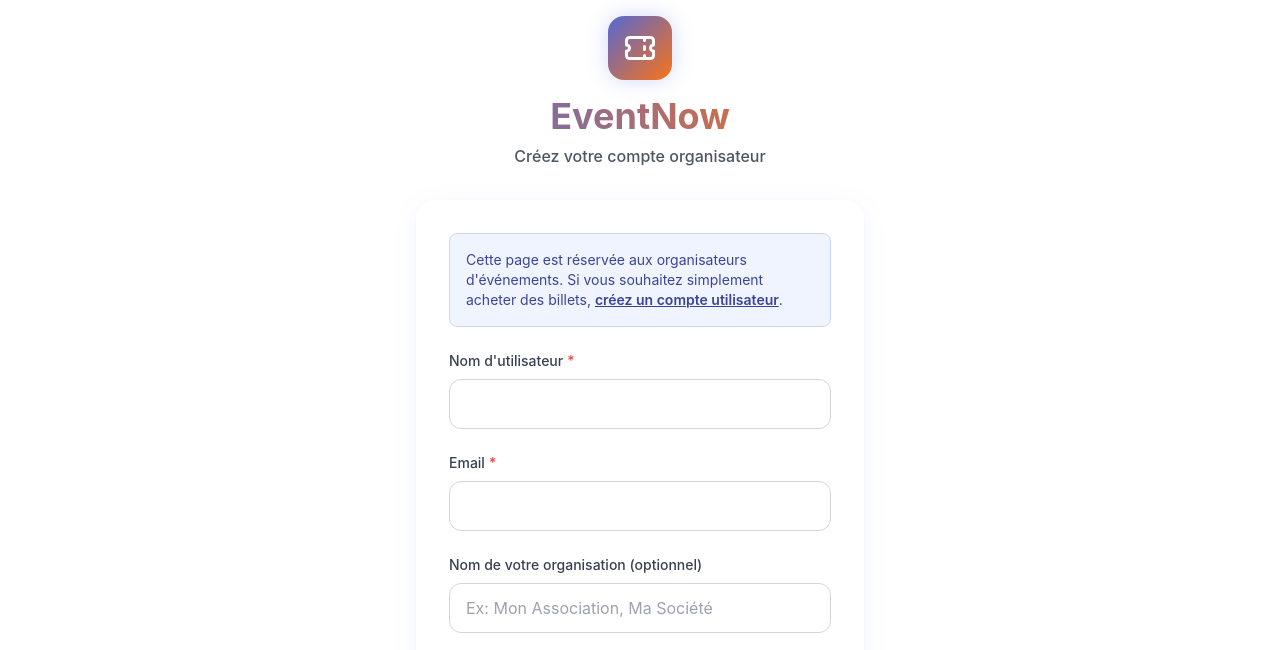
Test: RegisterOrganizerPage - client-side validation › rejects a short password
Type "alice" into the field labelled "Nom d'utilisateur*" at (640, 404), box [449,379,831,429]
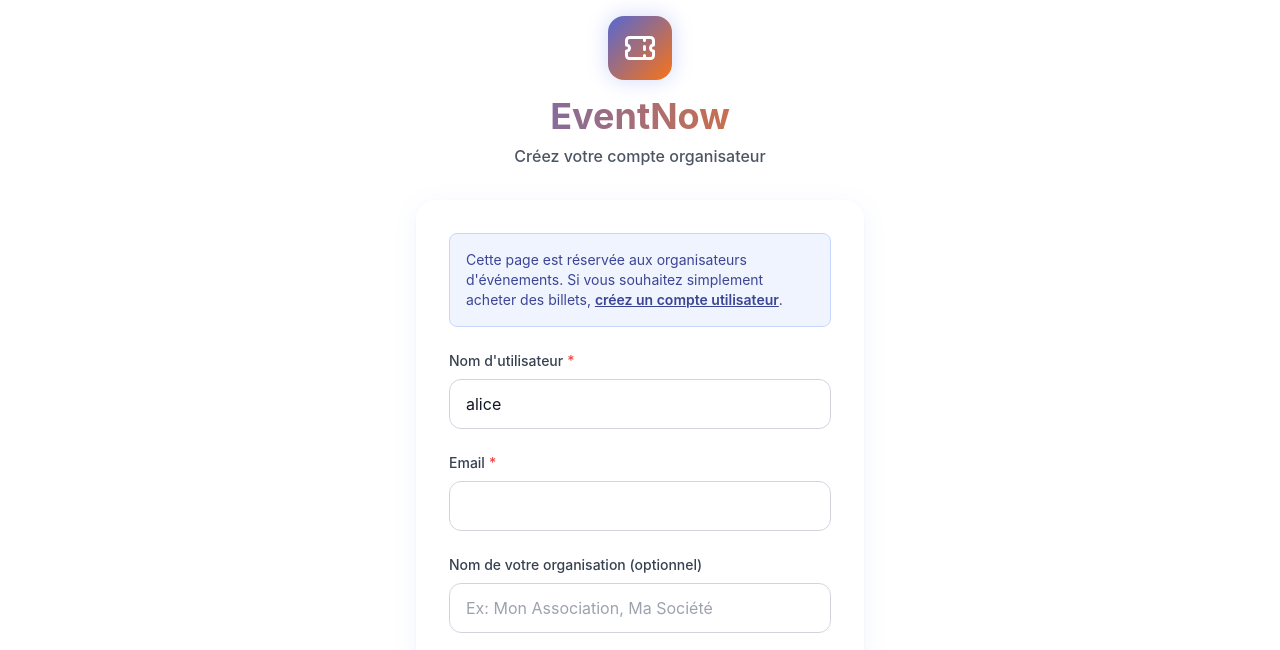
Type "alice@example.com" into the field labelled "Email*" at (640, 506), box [449,481,831,531]
(page scrolled)
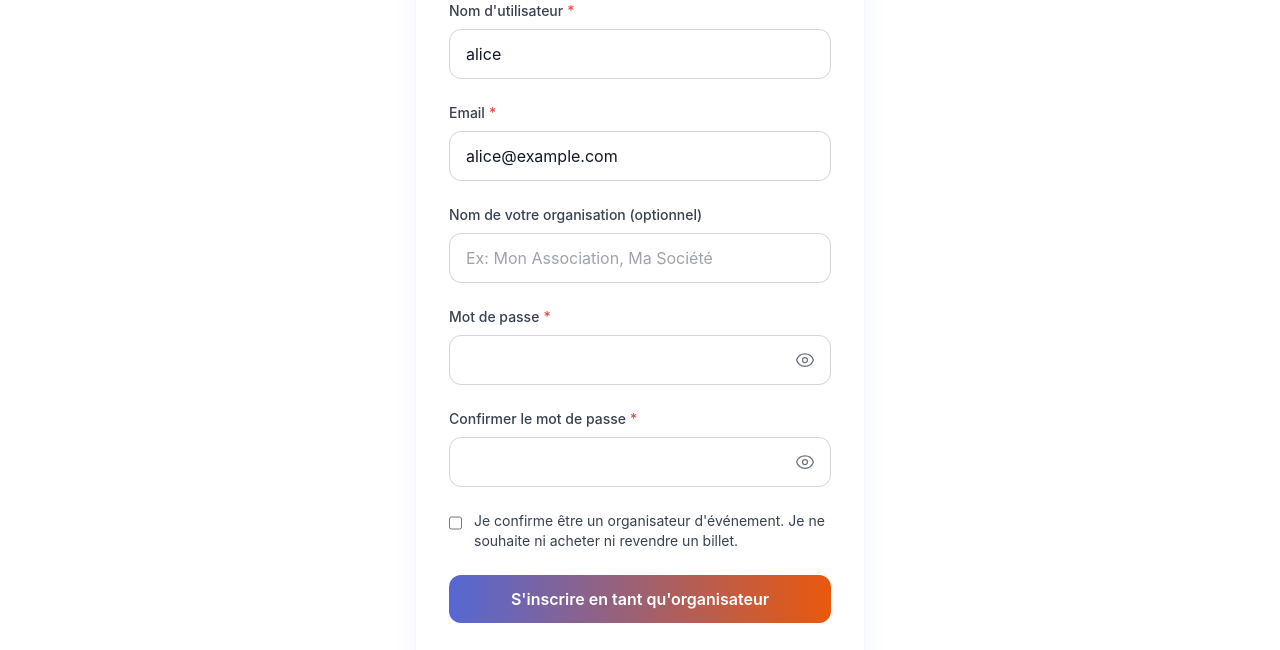
Type "short1" into the password field labelled "Mot de passe*" at (640, 360), box [449,335,831,385]
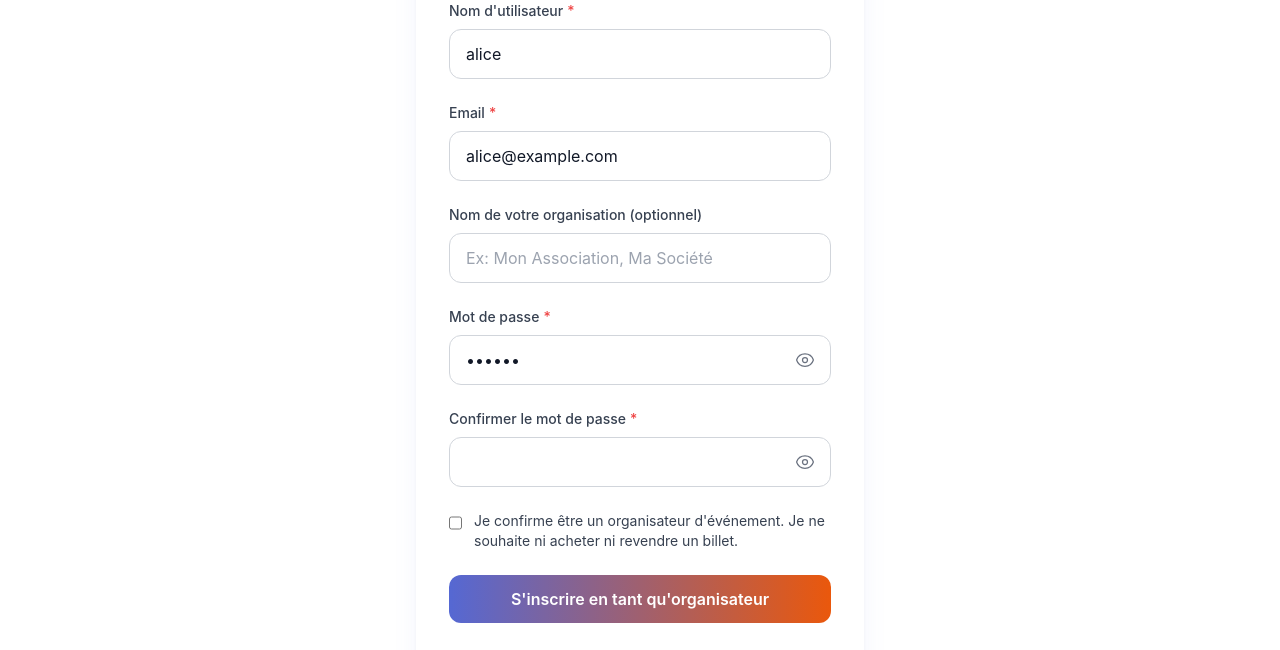
Type "short1" into the password field labelled "Confirmer le mot de passe*" at (640, 462), box [449,437,831,487]
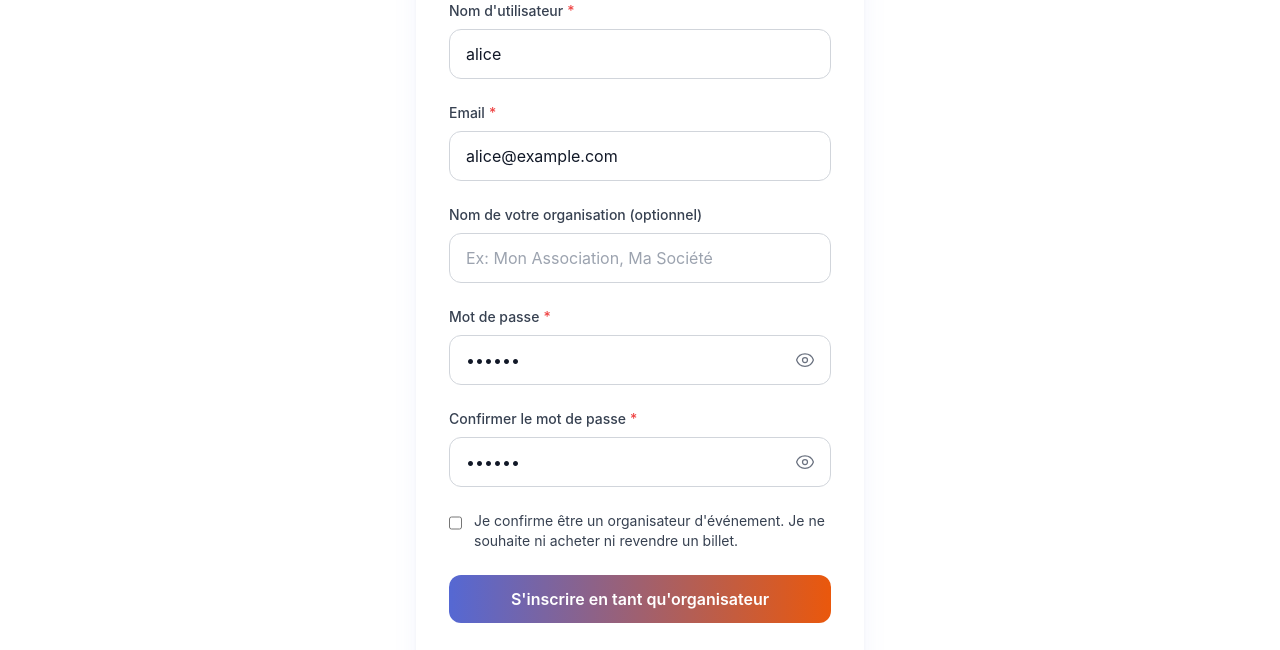
Click the checkbox labelled "Je confirme être un organisateur" at (456, 523), box [449,515,462,531]
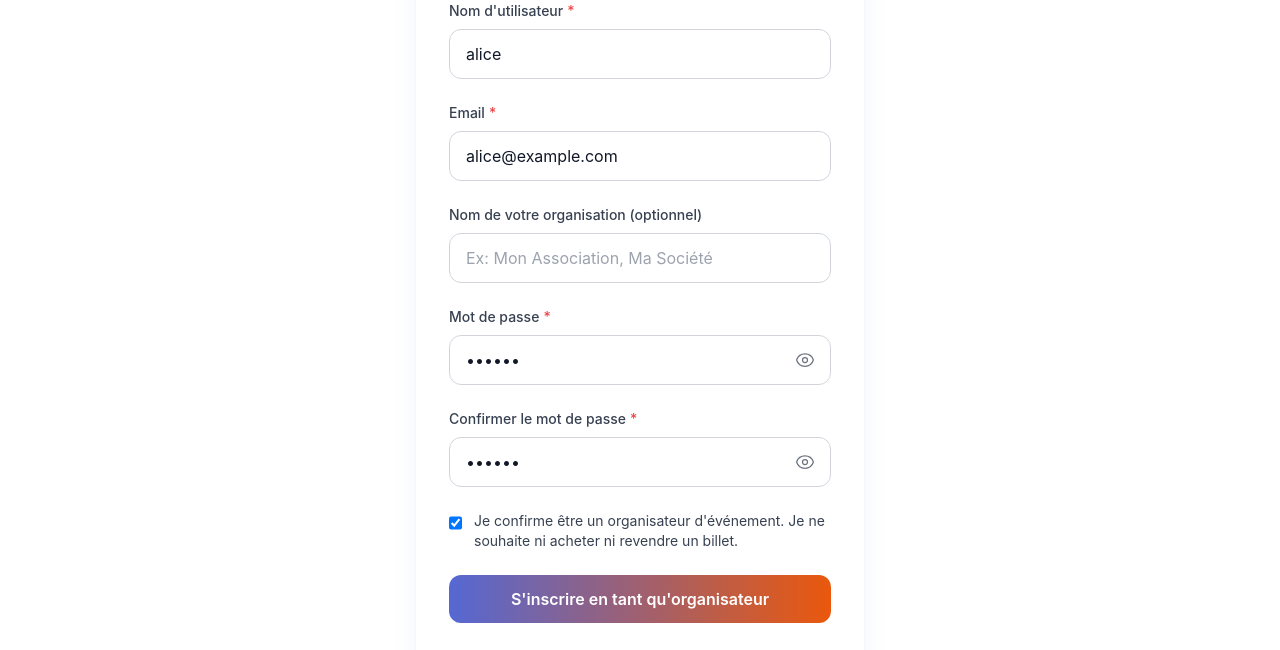
Click the button "S'inscrire en tant qu'organisateur" at (640, 599), box [449,575,831,623]
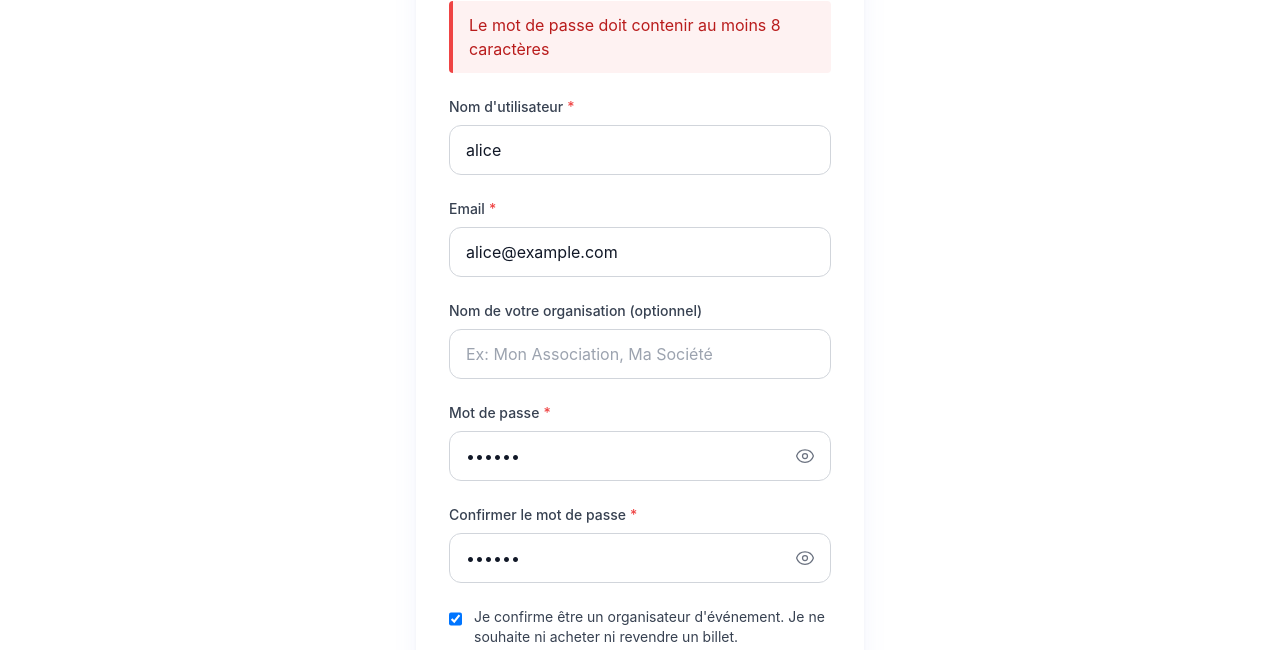
Now the text "Le mot de passe doit contenir au moins 8 caractères" is shown, box [469,13,815,61]
